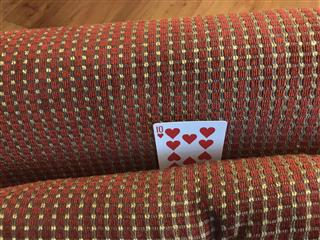TenOfHearts: (151, 119, 227, 170)
